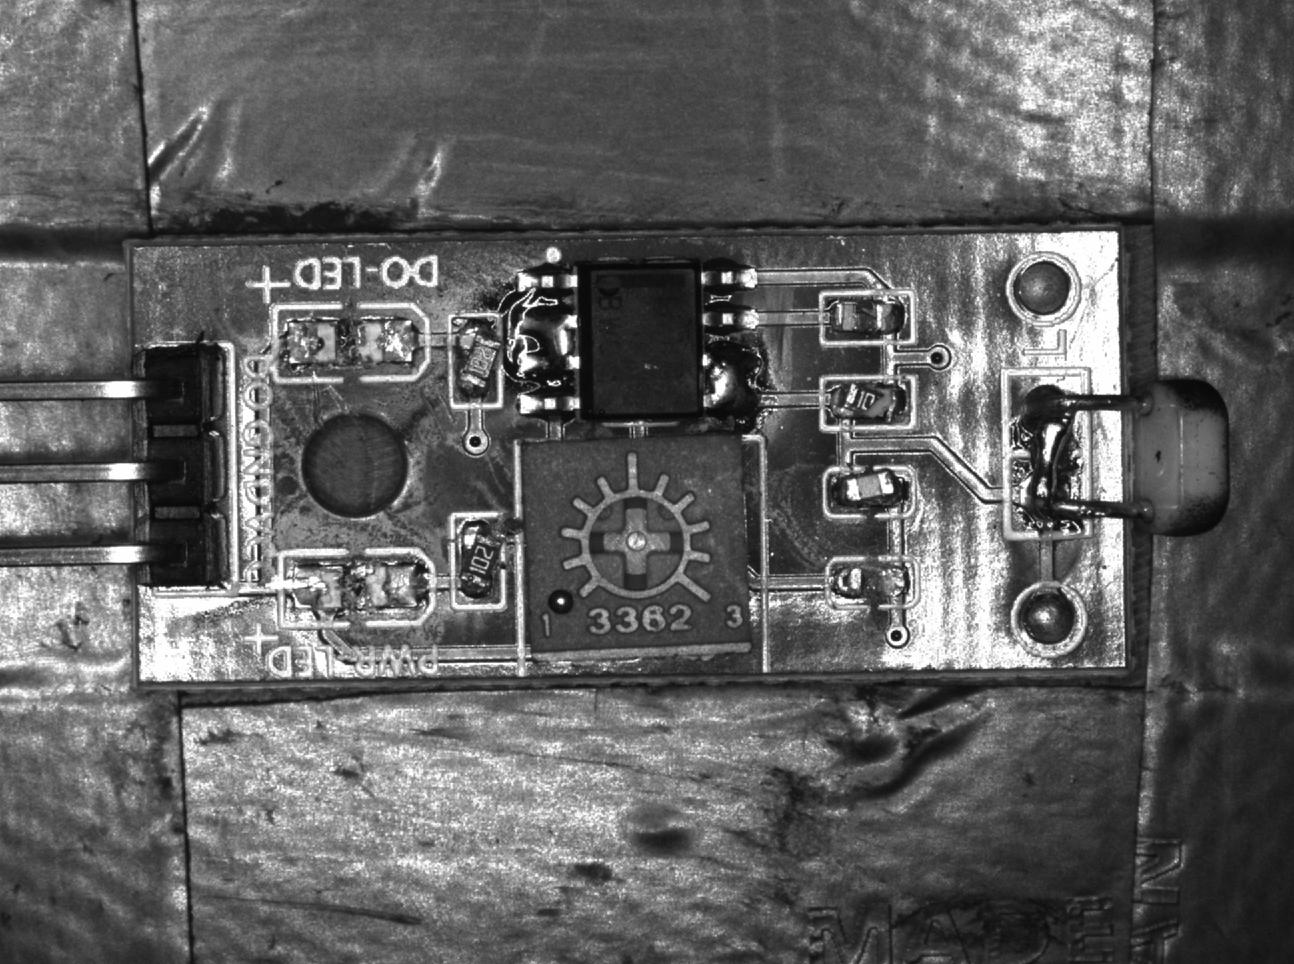bridge: (1003, 372, 1090, 537), (700, 338, 766, 426), (511, 302, 579, 386)
lifted: (457, 512, 509, 614), (820, 375, 919, 427), (450, 315, 505, 407), (826, 466, 912, 517)
miss: (821, 290, 911, 346), (825, 559, 918, 609)
